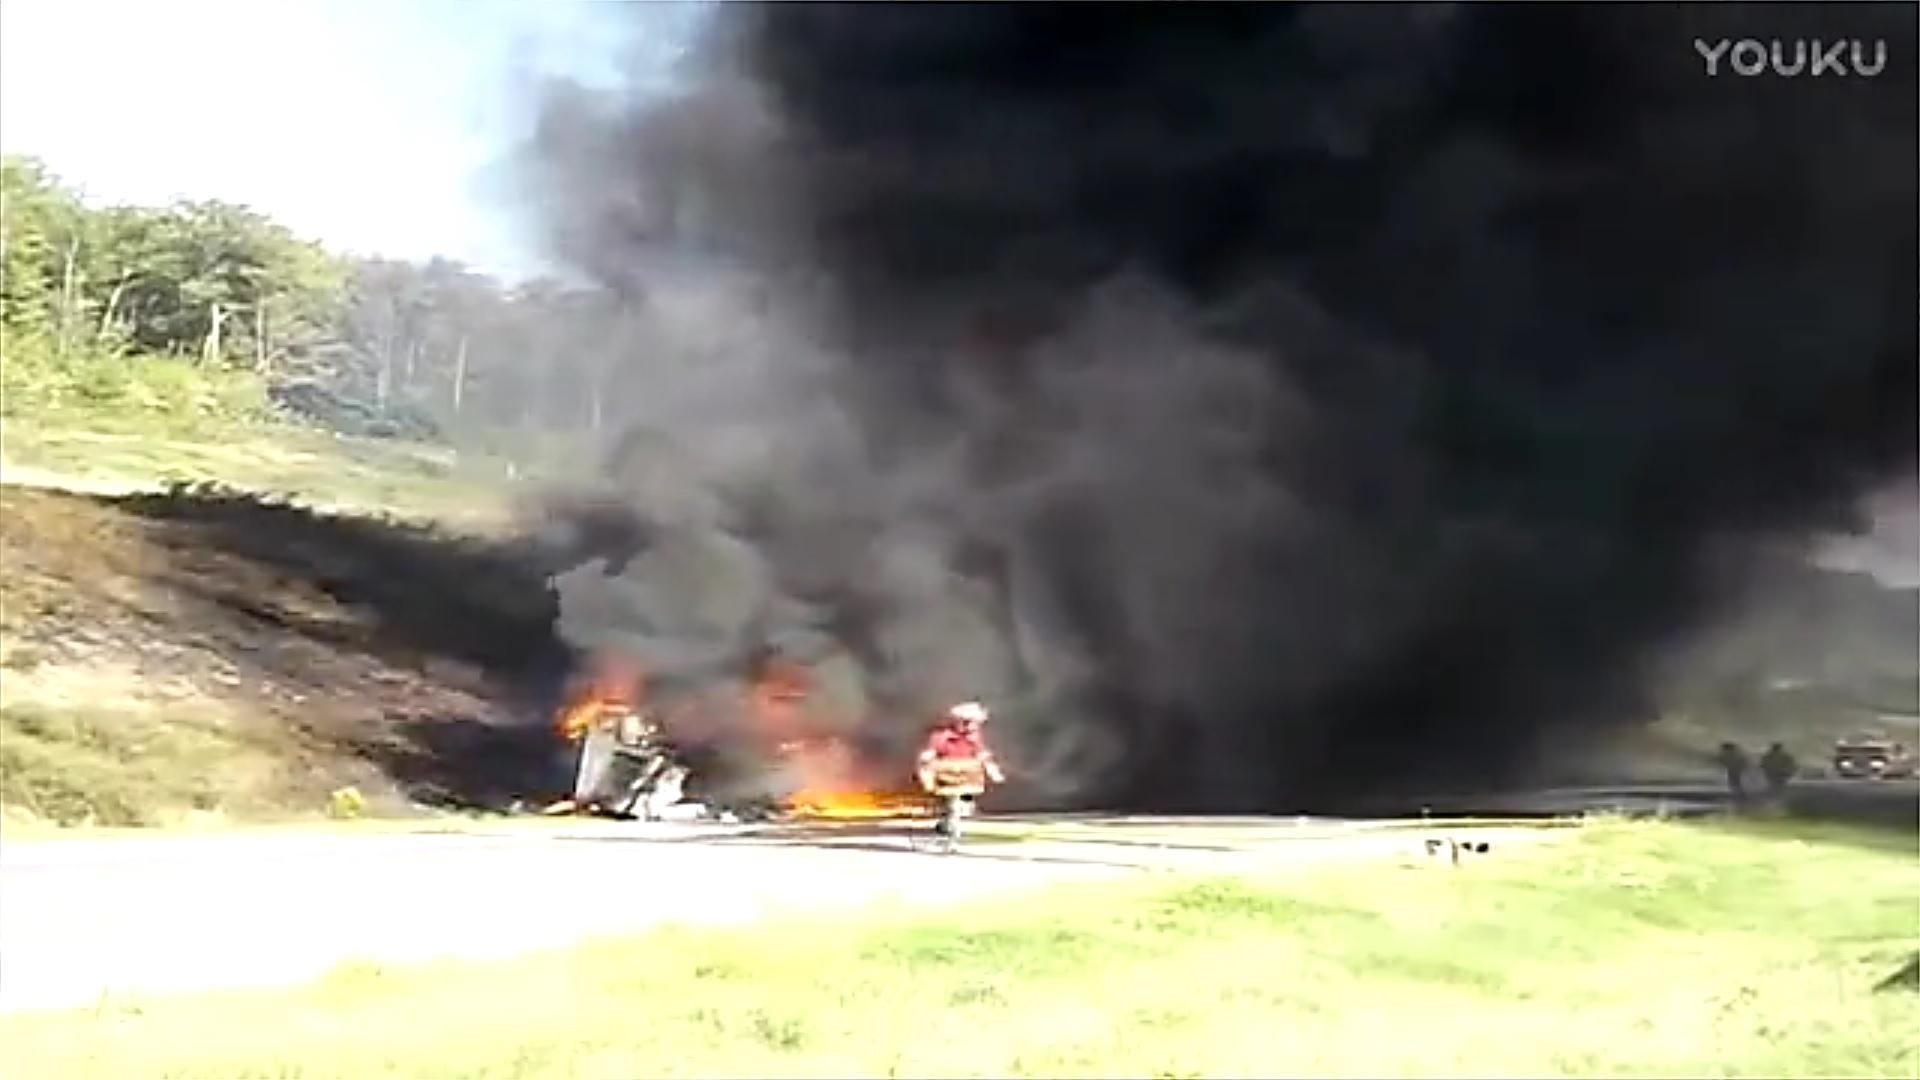fire: (783, 765, 947, 832)
